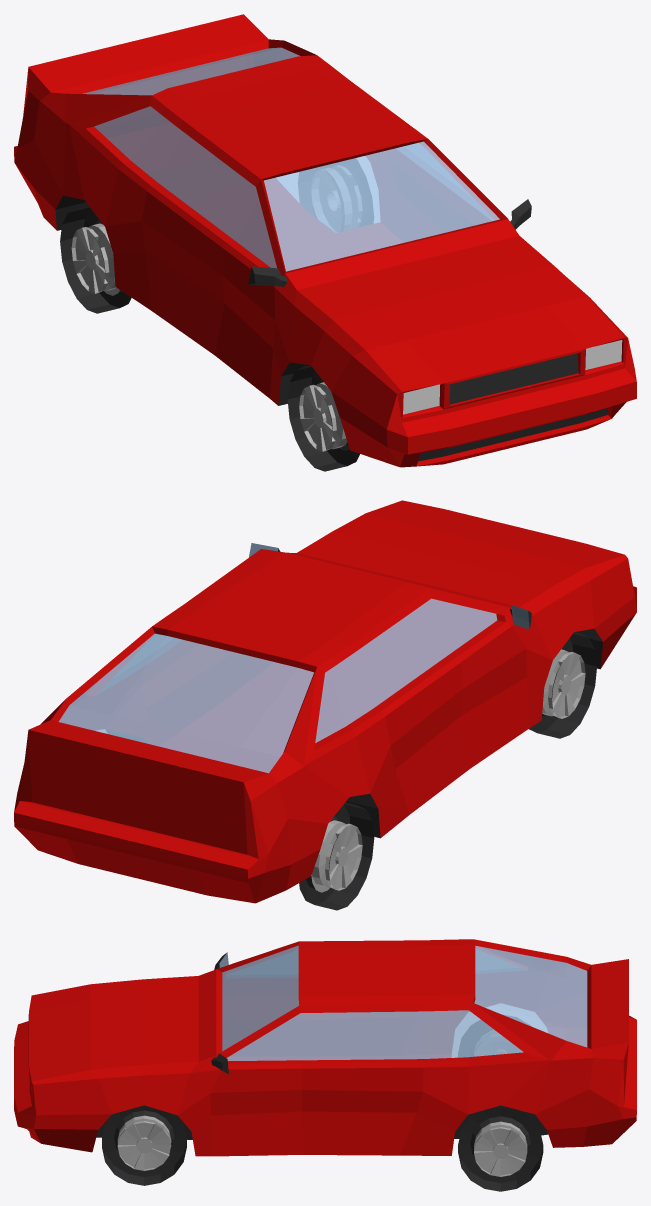
Rendered from vier2.fbx.
3 renders of one model, top to bottom at view 1: azimuth 30°, elevation 25°; view 2: azimuth 150°, elevation 25°; view 3: azimuth 270°, elevation 25°, orthographic. The views are drawn at different scales.
Visible parts, largest first — view 1: Body, Rear right, Front right, Rear left; view 2: Body, Rear right, Front right; view 3: Body, Rear left, Front left, Rear right.
Part boxes in pixels (box(x1,y1,x2,y2)): Body: box(14, 14, 636, 467); Rear right: box(60, 205, 131, 313); Front right: box(287, 365, 359, 471); Rear left: box(298, 158, 373, 232); Body: box(14, 500, 636, 903); Rear right: box(299, 802, 374, 910); Front right: box(529, 632, 596, 738); Body: box(14, 939, 636, 1156); Rear left: box(458, 1106, 543, 1191); Front left: box(102, 1105, 186, 1185); Rear right: box(458, 1015, 528, 1056).
Size of the model in its own units: 202 by 149 by 489.
